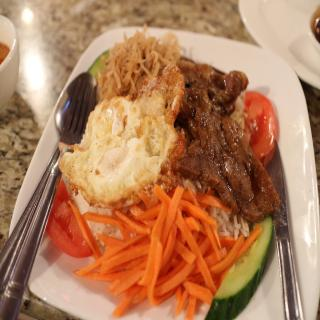tomato: (44, 175, 92, 260), (243, 90, 278, 158)
